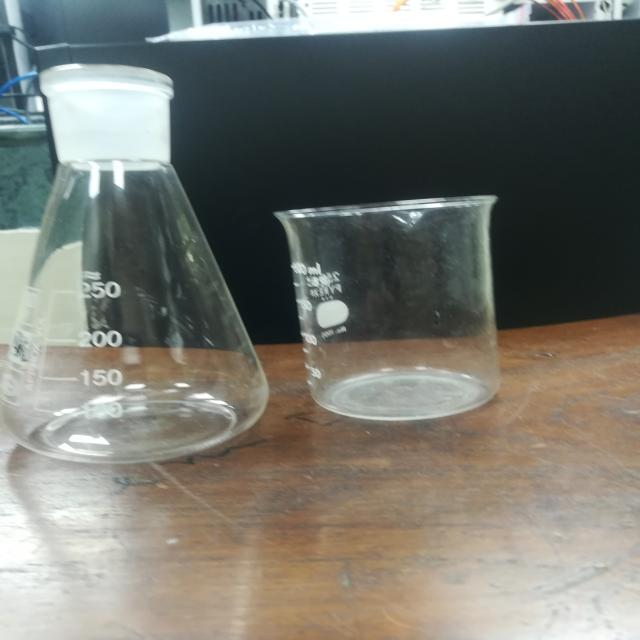Beaker: (274, 174, 544, 428)
Conical_Flask: (13, 41, 260, 476)
